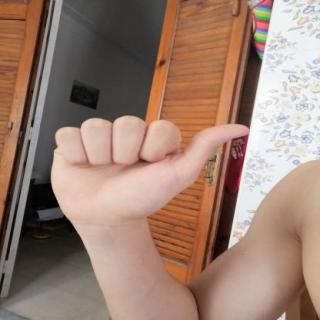DAD: (38, 110, 260, 235)
